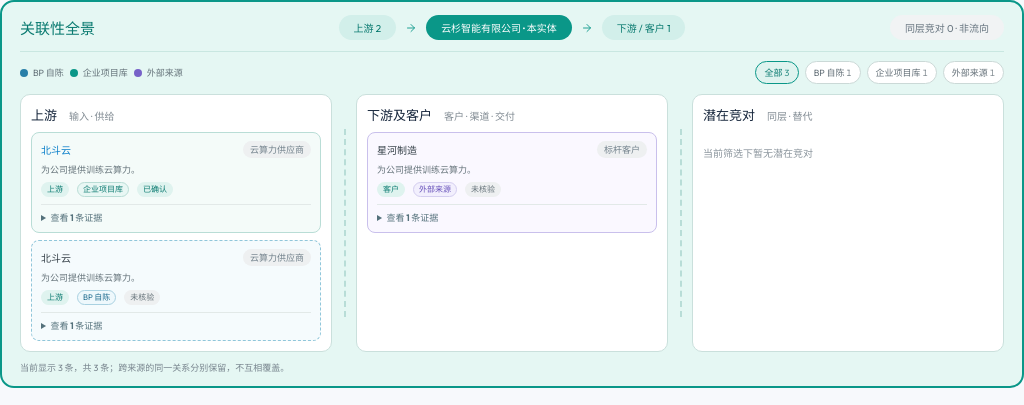
Test case: 公司关联性全景 › 展示三类来源并按来源筛选，跨来源同一关系不互相覆盖
The image size is (1024, 405).
Check: the element named "关联关系来源图例" is shown, box [20, 66, 183, 79]
Check: the text "BP 自陈" is shown, box [20, 66, 64, 79]
Click the button "外部来源 1".
click(973, 72)  # box [943, 61, 1004, 84]
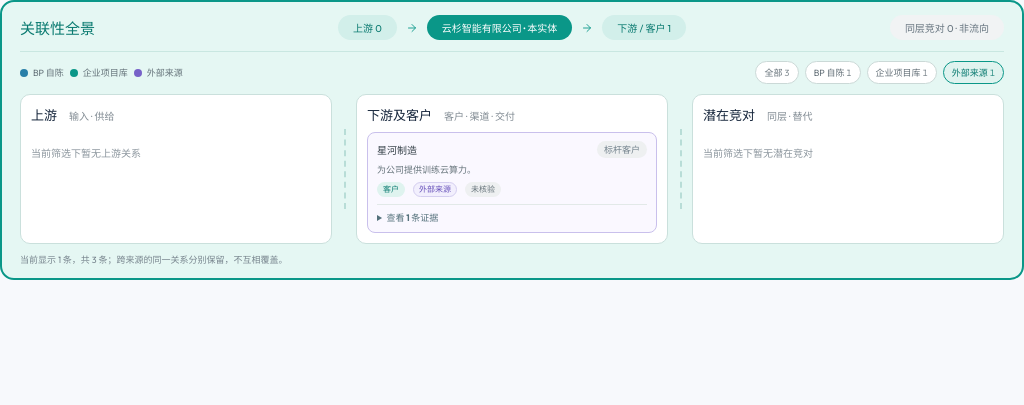
Check: the text "星河制造" is shown, box [377, 142, 417, 157]
Check: the link "北斗云" is gone
Check: the text "当前筛选下暂无上游关系" is shown 2 times, box [31, 147, 141, 160]; [703, 147, 813, 160]
